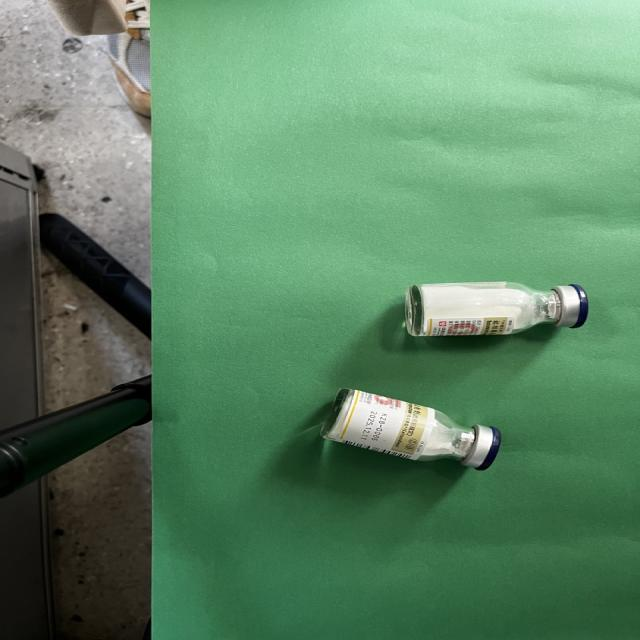Vials: (321, 388, 501, 470), (405, 282, 588, 336)
